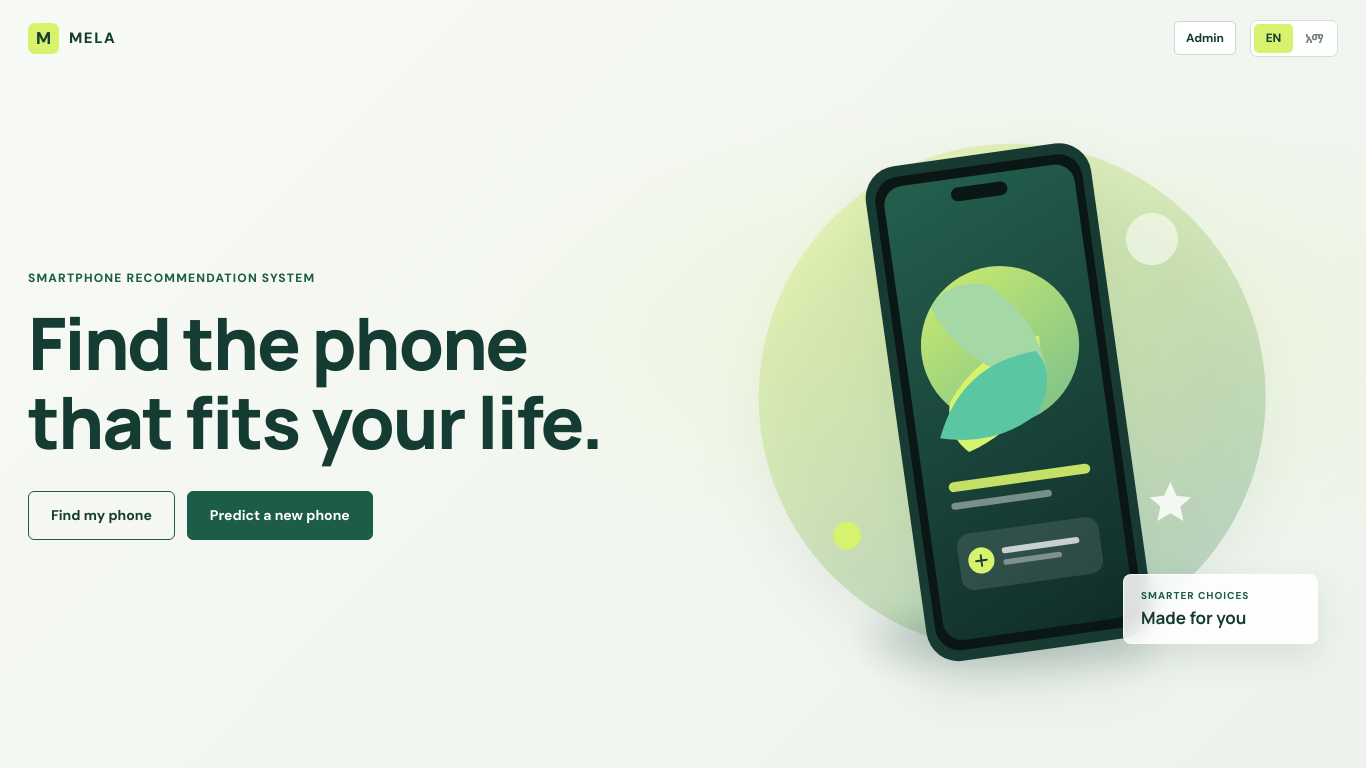
admin link is available on the welcome page
The width and height of the screenshot is (1366, 768).
Click the button "Admin": {"x": 1205, "y": 38} [1174,21,1236,55]
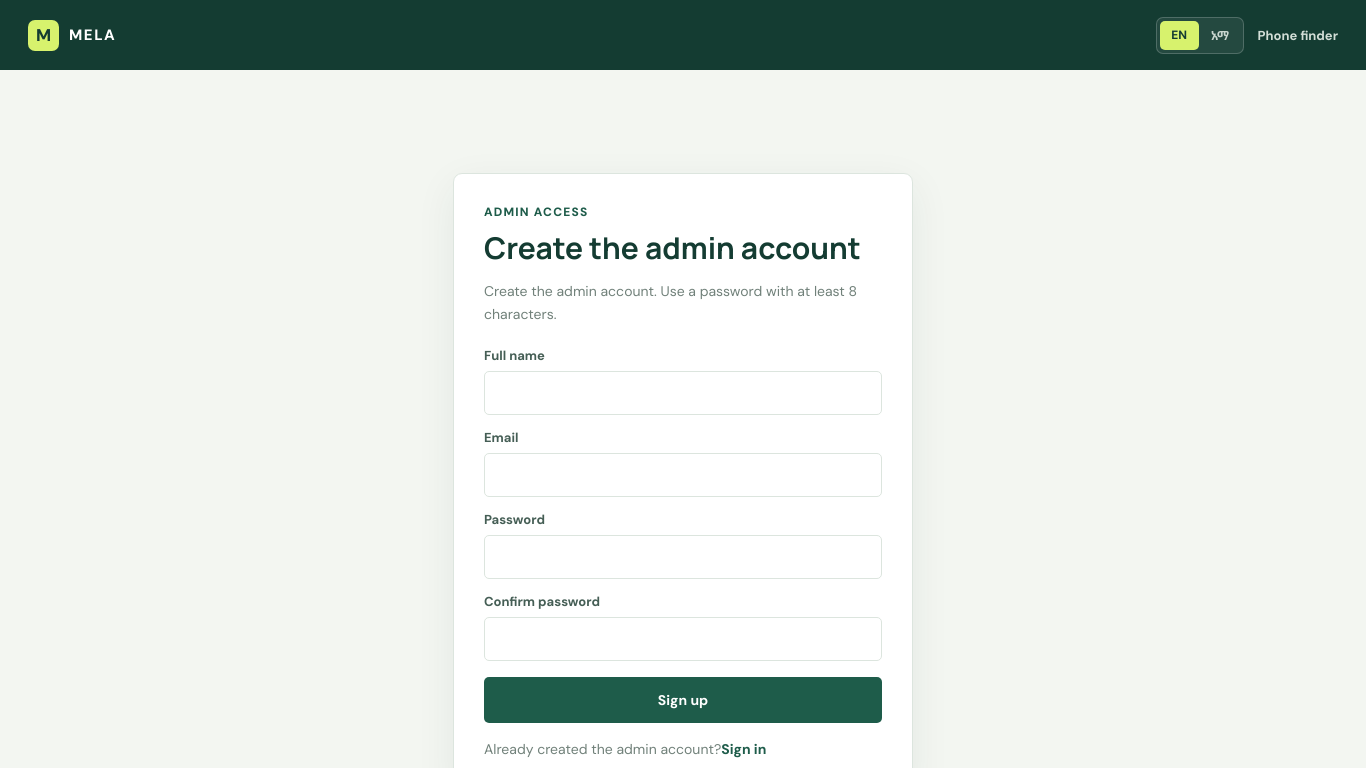
Now the heading "Create the admin account" is shown, box [484,230,882,266]
